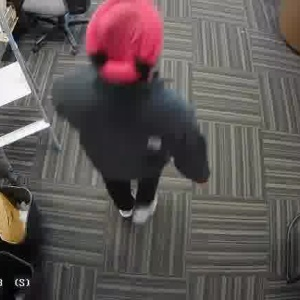person: (62, 1, 197, 226)
